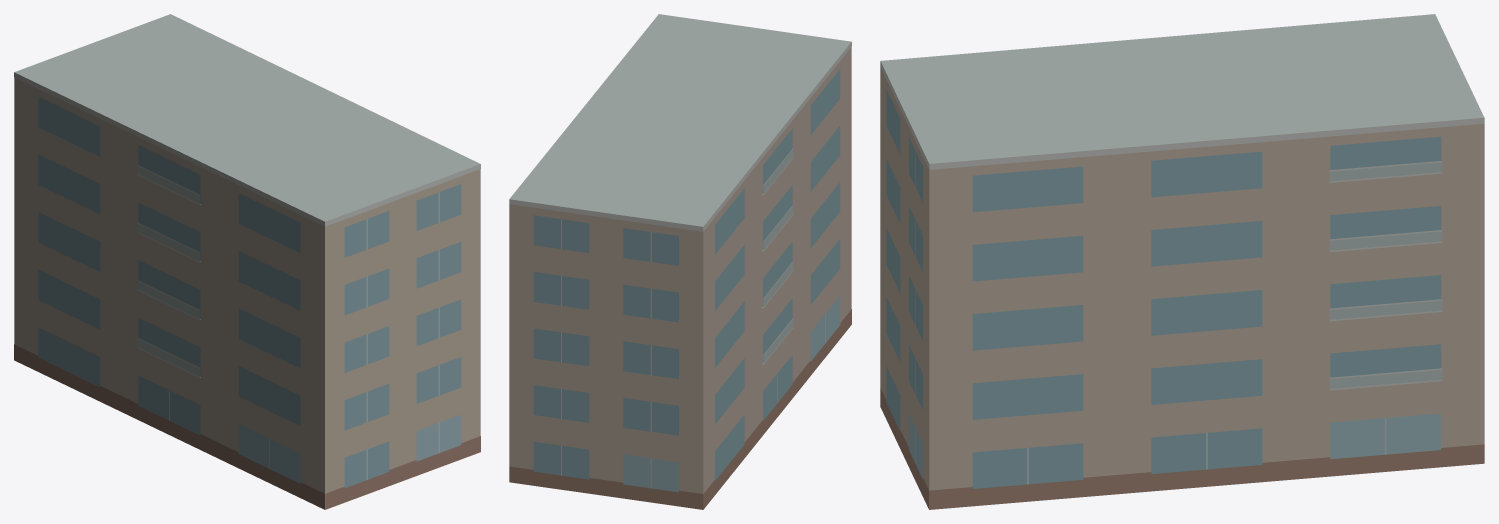
The model's file is survey-upis-32699088.glb.
3 renders of one model, left to right at view 1: azimuth 30°, elevation 25°; view 2: azimuth 150°, elevation 25°; view 3: azimuth 270°, elevation 25°, orthographic. The views are drawn at different scales.
Visible parts, largest first — view 1: survey-upis-32699088.tmp; view 2: survey-upis-32699088.tmp; view 3: survey-upis-32699088.tmp.
Part boxes in pixels (<box>): survey-upis-32699088.tmp: <box>14,14,480,509</box>; survey-upis-32699088.tmp: <box>509,14,851,509</box>; survey-upis-32699088.tmp: <box>880,14,1484,509</box>.
Size of the model in its own units: 13.12 by 14.1 by 22.33.
